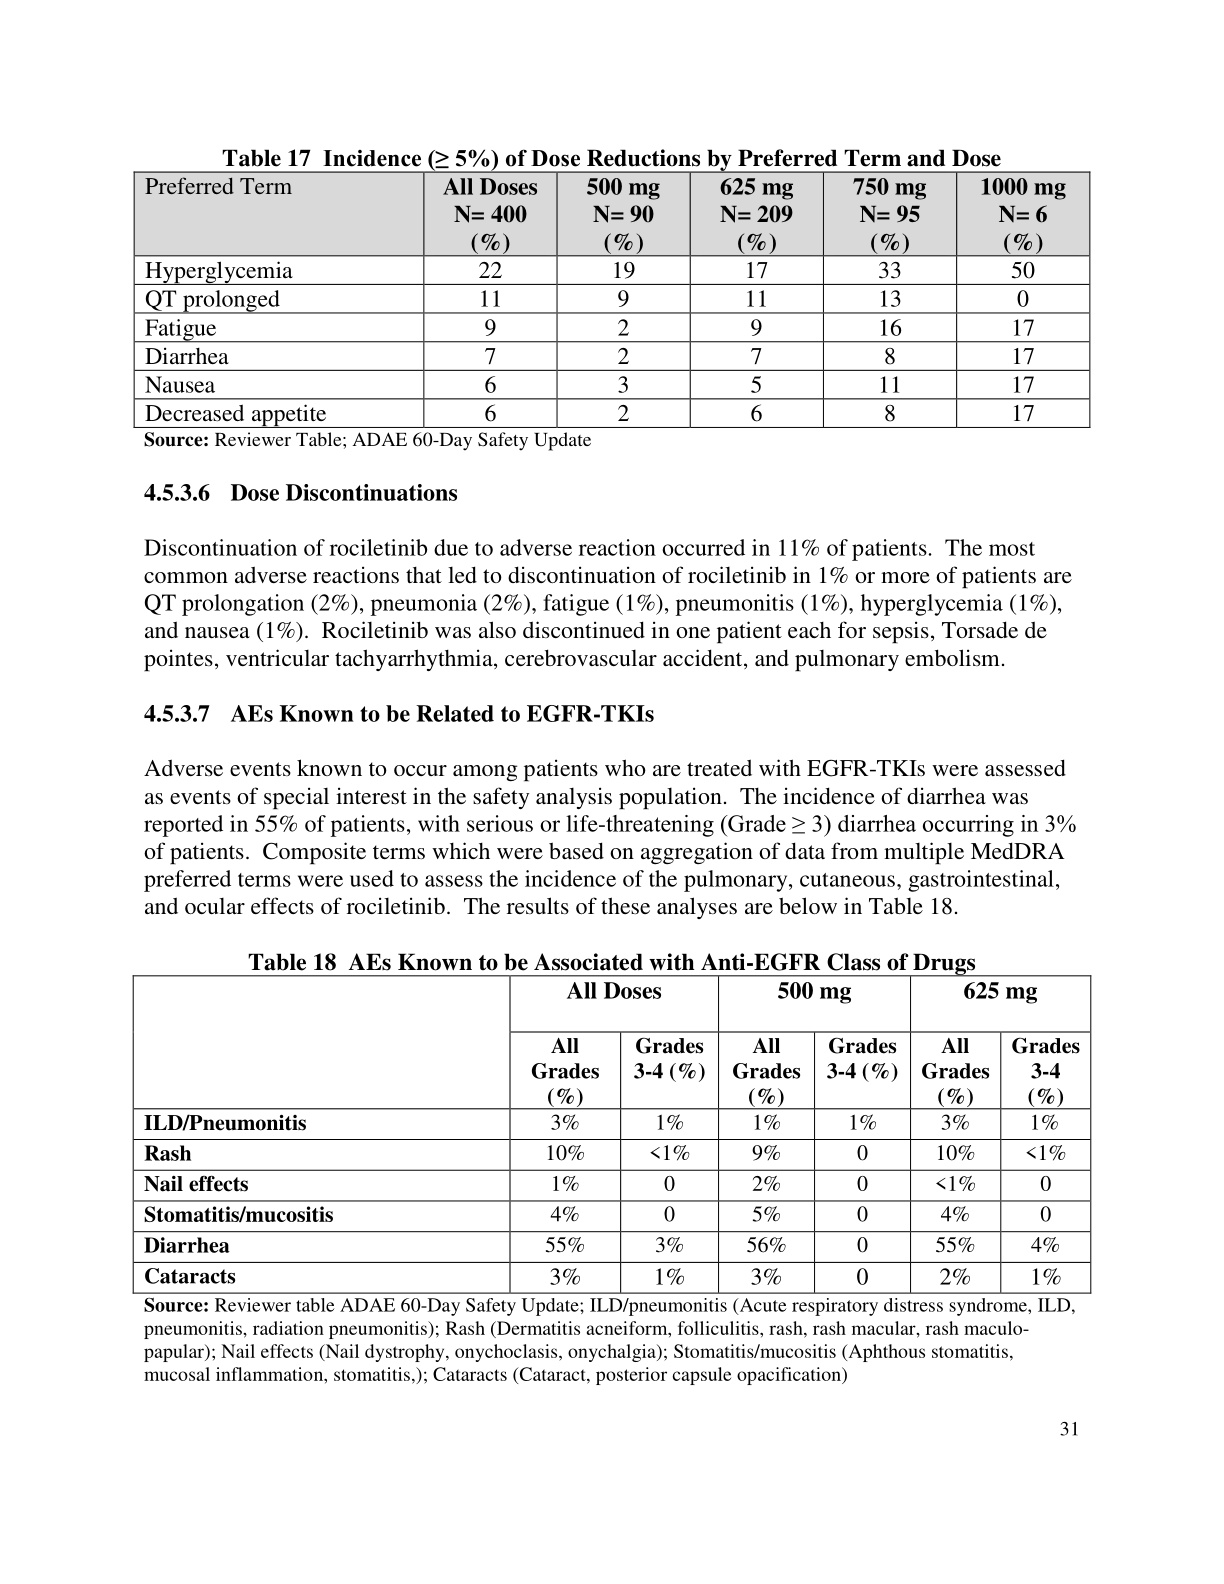full_lined: (132, 171, 1092, 429)
merged_cells: (131, 975, 1092, 1295)
